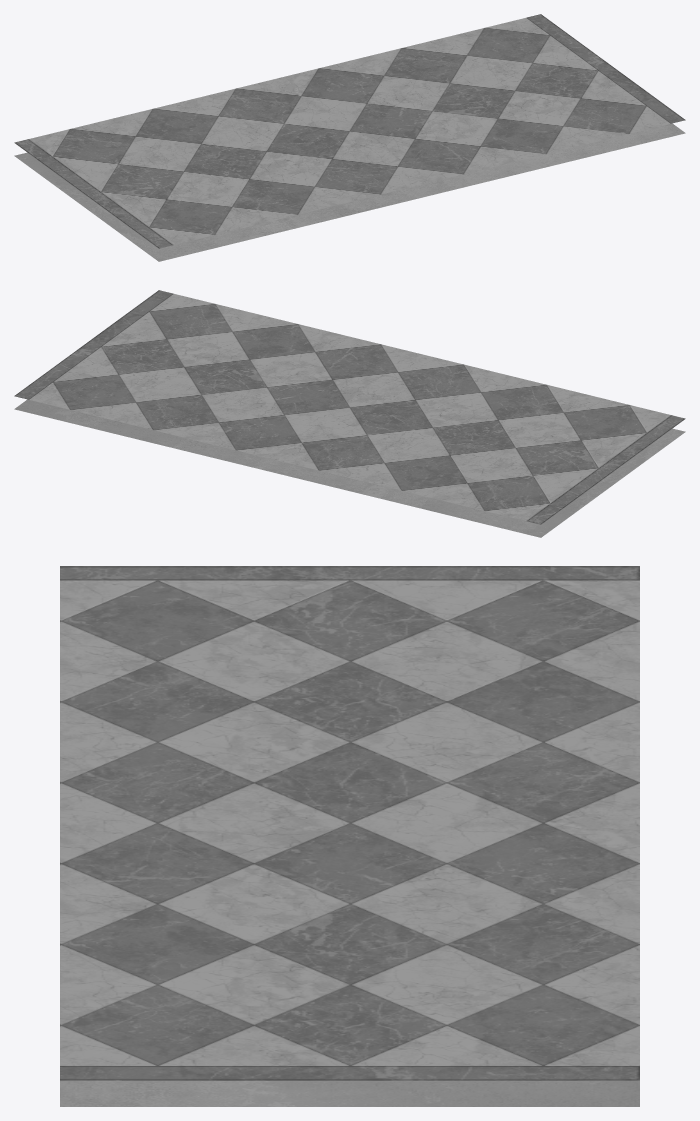
File: M_H_floor_03.fbx
3 views of the same model, one above another, from view 1: azimuth 30°, elevation 25°; view 2: azimuth 150°, elevation 25°; view 3: azimuth 270°, elevation 25° (orthographic). The views are drawn at different scales.
Visible parts, largest first — view 1: M_H_floor_02; view 2: M_H_floor_02; view 3: M_H_floor_02.
Part boxes in pixels (x1=…): M_H_floor_02: x1=14, y1=14, x2=685, y2=261; M_H_floor_02: x1=14, y1=290, x2=685, y2=537; M_H_floor_02: x1=60, y1=566, x2=639, y2=1106.
Size of the model in its own units: 840 by 20 by 400.
